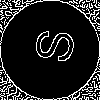S: (25, 25, 76, 65)
